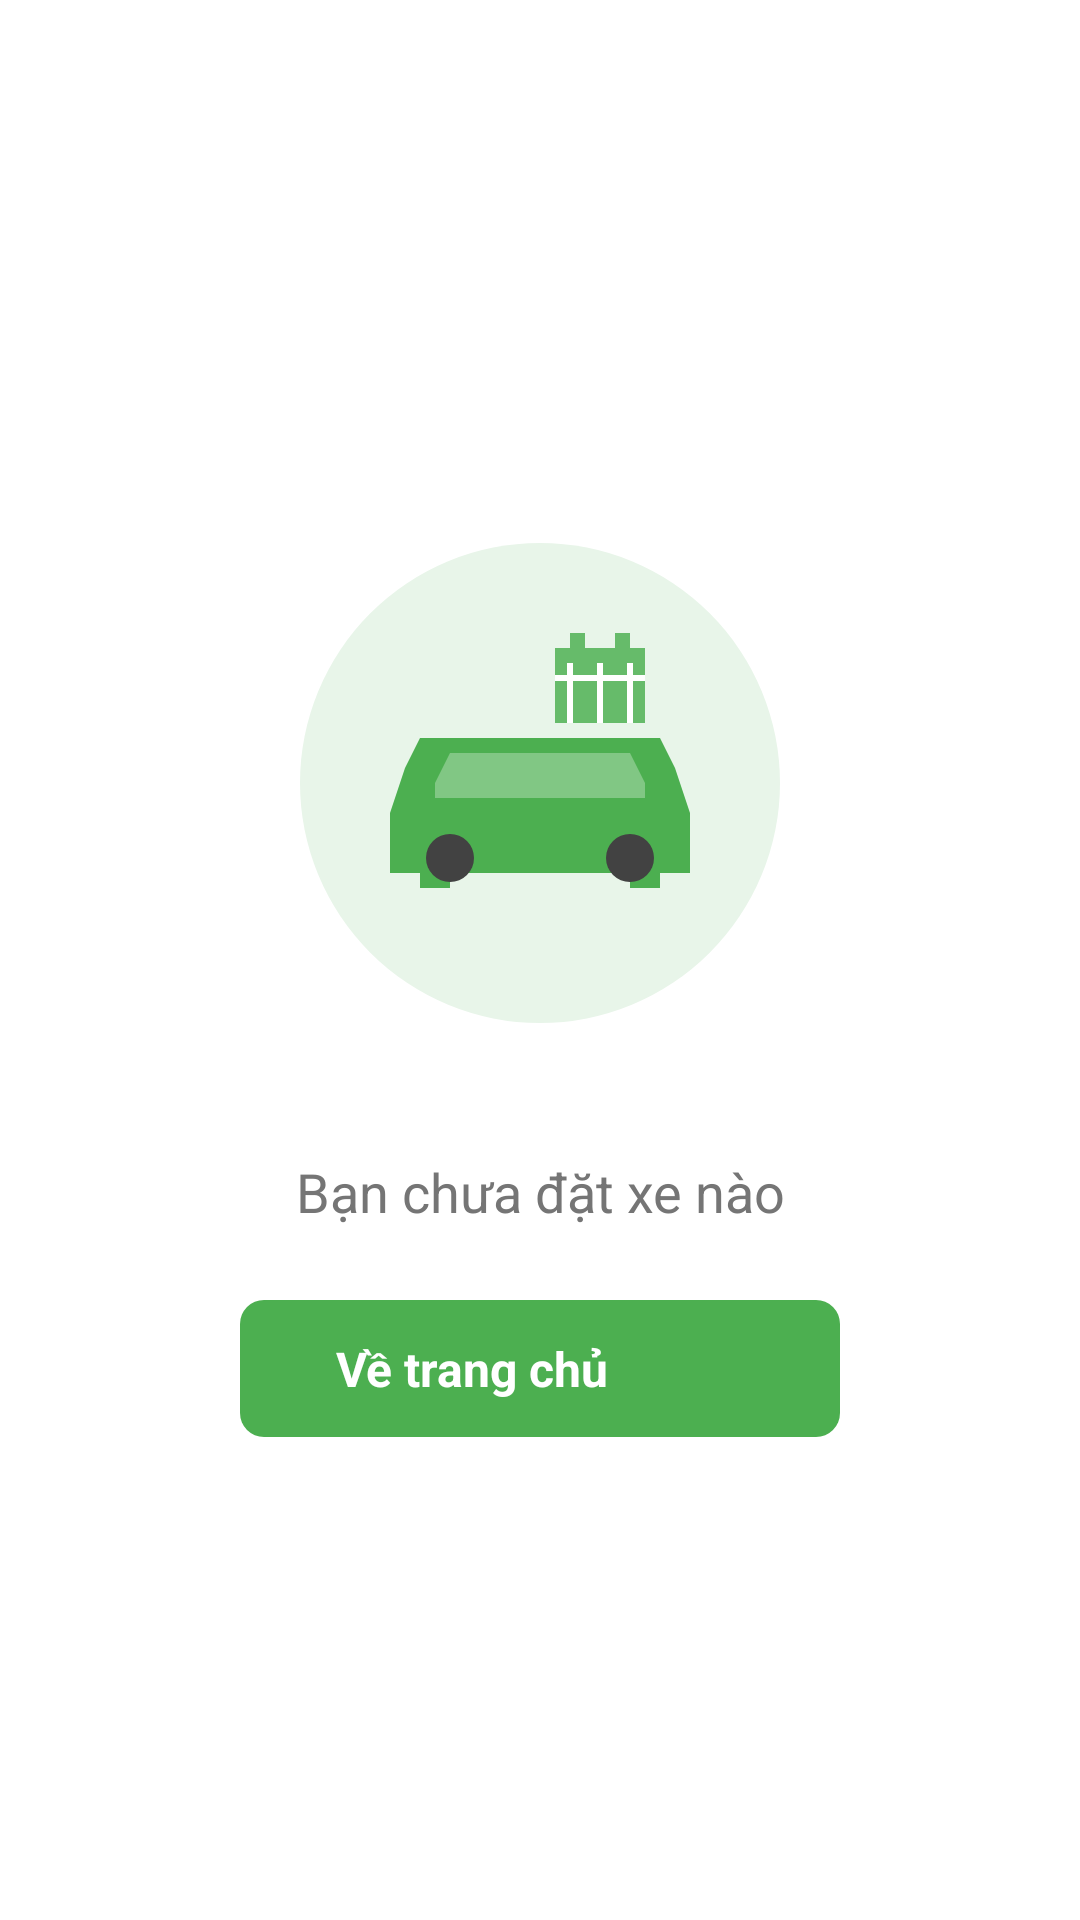

Icon bounding boxes for this 1080w x 1920h phone screenshot, format [x1=x1, y1=y1, x2=x2, y2=y2]:
No bookings: [x1=390, y1=633, x2=690, y2=888]
